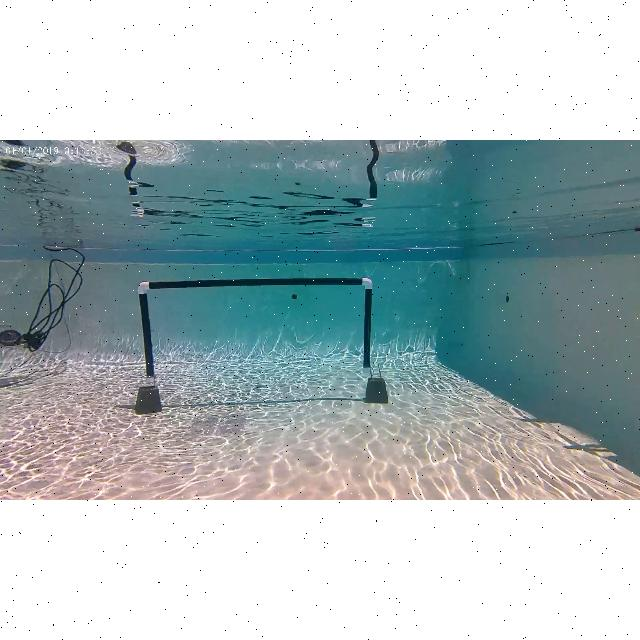prequal gate: (138, 278, 372, 382)
prequal gate leg l: (132, 278, 164, 386)
prequal gate leg r: (350, 274, 376, 382)
